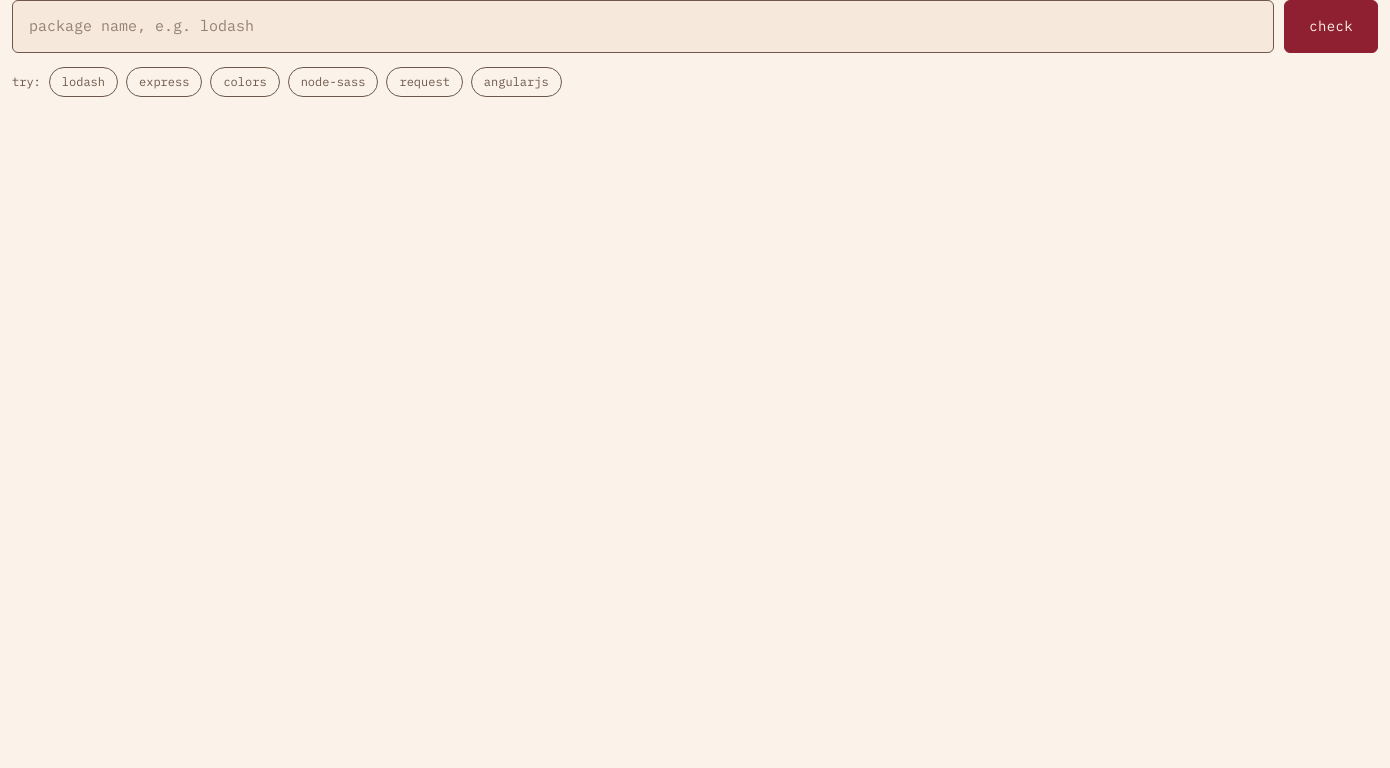
Scenario: pagination › shows 5 advisories per page by default
The width and height of the screenshot is (1390, 768).
Type "examplepkg" into the field labelled "package name, e.g. lodash".
click(643, 26); type("examplepkg")  # box [12,0,1274,52]
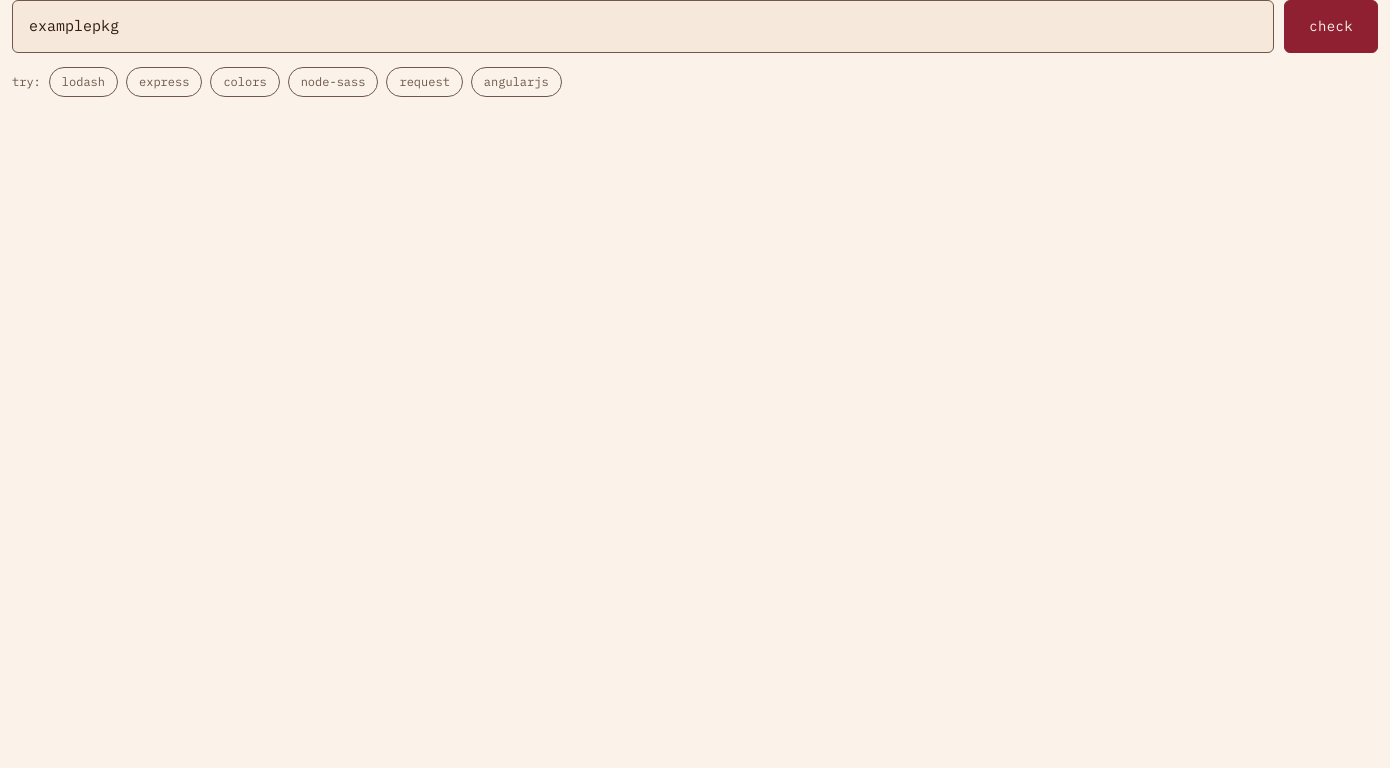
Click the button "check".
click(1331, 26)  # box [1284,0,1378,52]
(page scrolled)
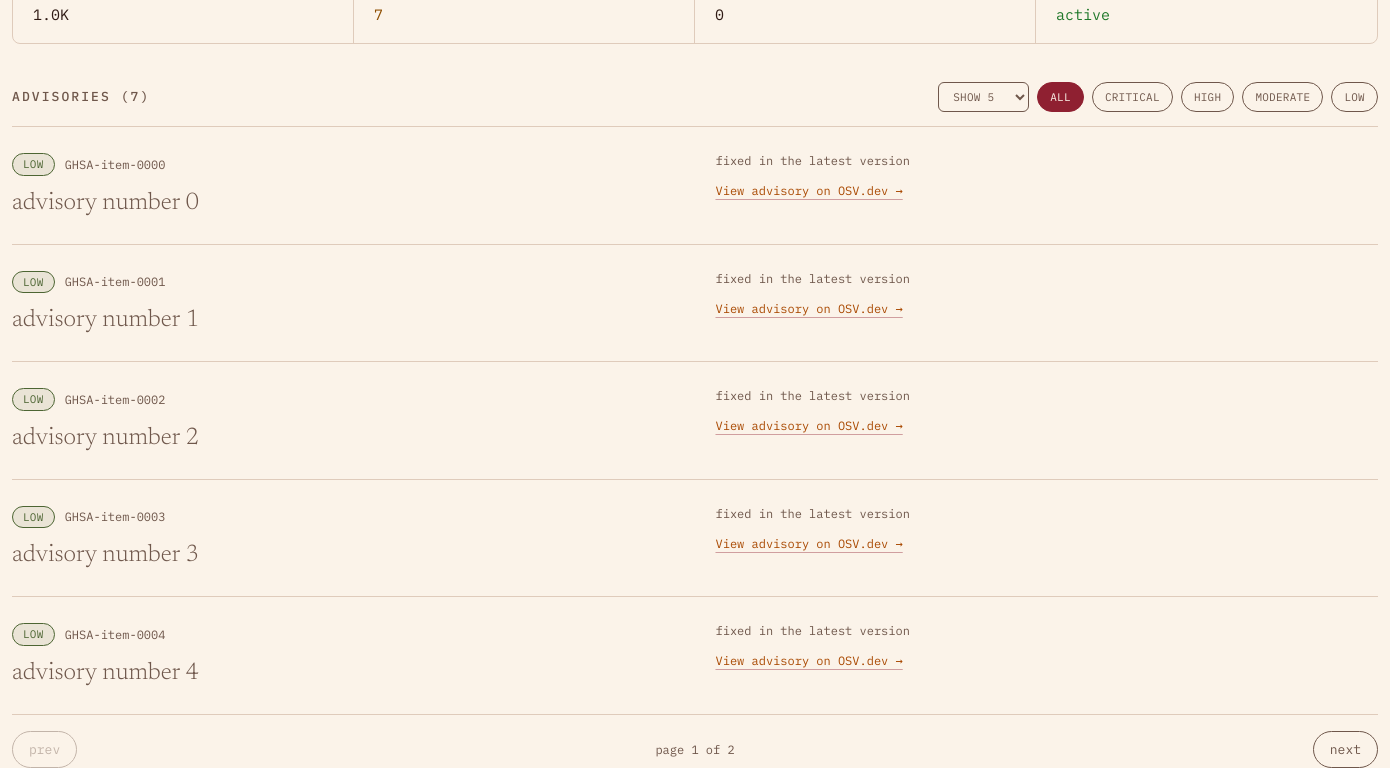
Check: the text "GHSA-item-0000" is shown, box [65,157,165,173]
Check: the text "GHSA-item-0000" is shown 5 times, box [65,157,165,173]; [65,274,165,290]; [65,392,165,408]; [65,509,165,525]; [65,627,165,643]
Check: the text "page 1 of 2" is shown, box [655,742,735,758]
Click the button "next".
click(1345, 750)  # box [1313,731,1378,767]
(page scrolled)
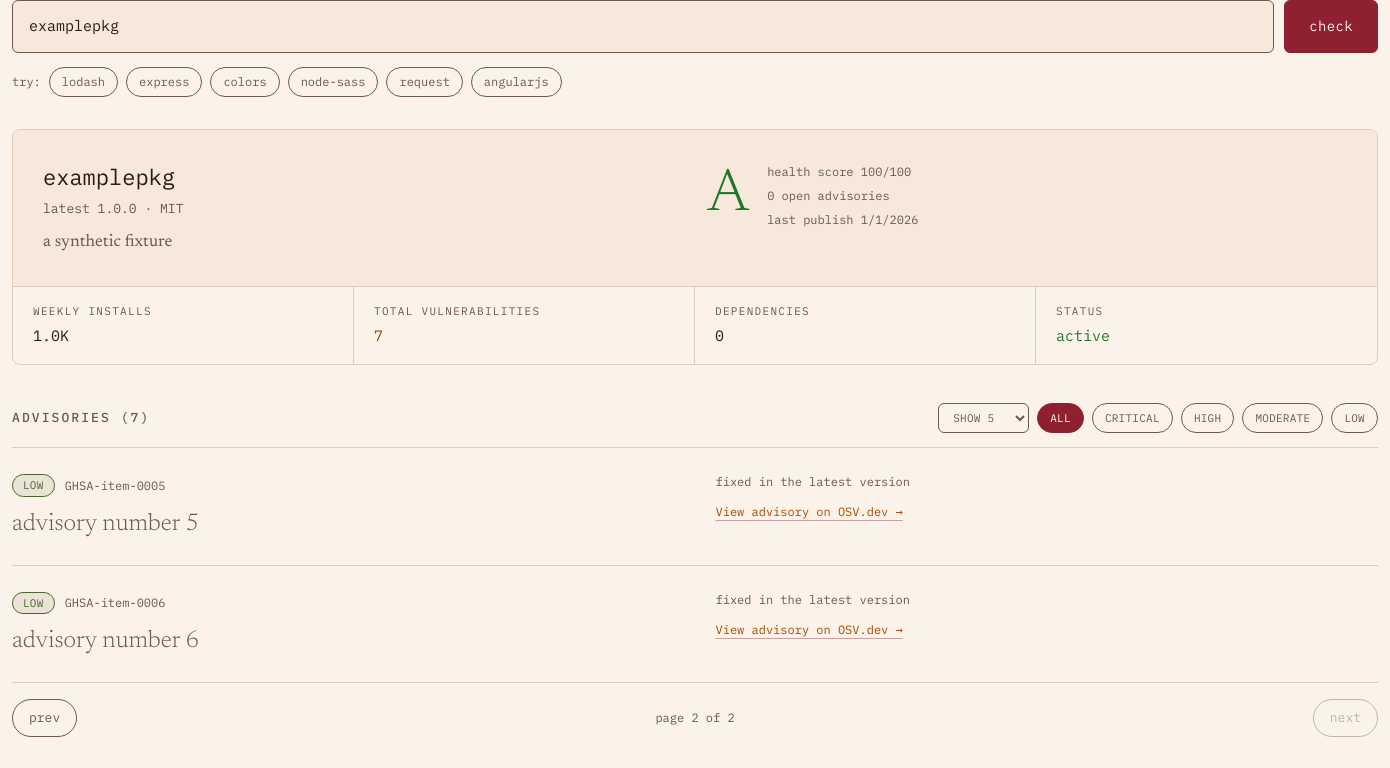
Check: the text "GHSA-item-0005" is shown, box [65,478,165,494]
Check: the text "GHSA-item-0000" is gone
